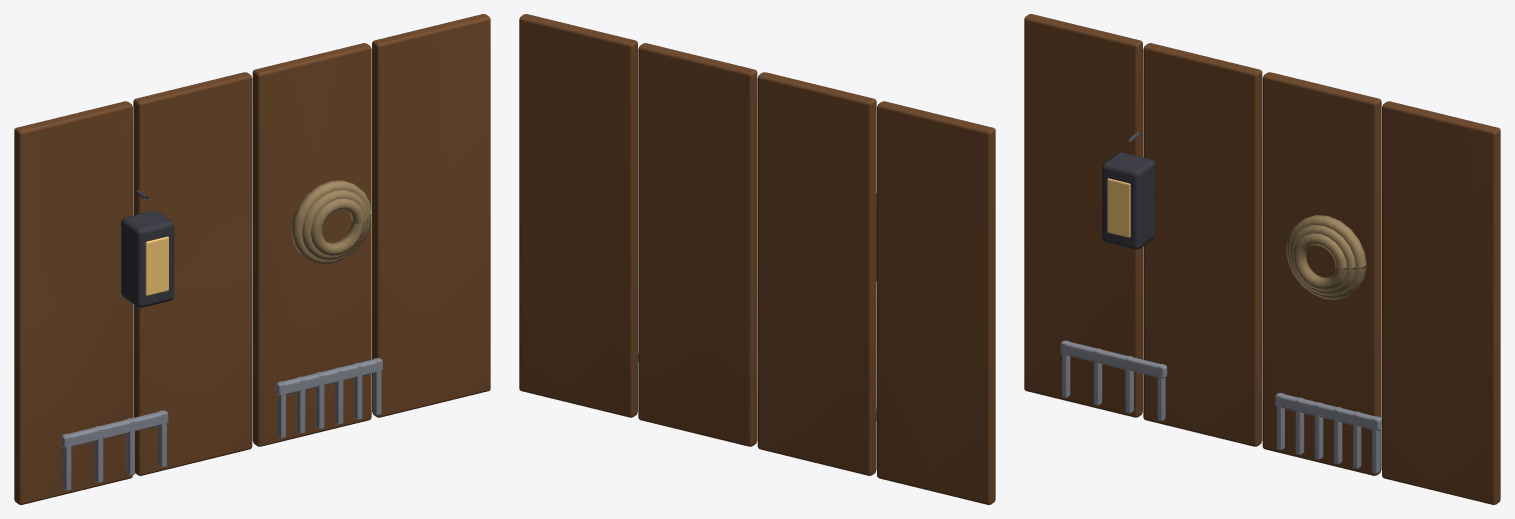
The model's file is furn_tool_wall.glb.
The picture shows the model from 3 angles, left to right: view 1: azimuth 30°, elevation 25°; view 2: azimuth 150°, elevation 25°; view 3: azimuth 330°, elevation 25°; orthographic projection.
Parts seen in each view (by area): view 1: furn_tool_wall_main, furn_tool_wall_gloss, furn_tool_wall_glow; view 2: furn_tool_wall_main; view 3: furn_tool_wall_main, furn_tool_wall_gloss, furn_tool_wall_glow.
Boxes of the visible parts, bbox=[...] form: furn_tool_wall_main: bbox=[14, 14, 490, 504]; furn_tool_wall_gloss: bbox=[61, 190, 382, 490]; furn_tool_wall_glow: bbox=[145, 236, 168, 295]; furn_tool_wall_main: bbox=[519, 14, 995, 504]; furn_tool_wall_main: bbox=[1024, 14, 1500, 504]; furn_tool_wall_gloss: bbox=[1060, 131, 1381, 473]; furn_tool_wall_glow: bbox=[1107, 178, 1130, 237].
Size of the model in its own units: 1.98 by 1.5 by 0.205.
